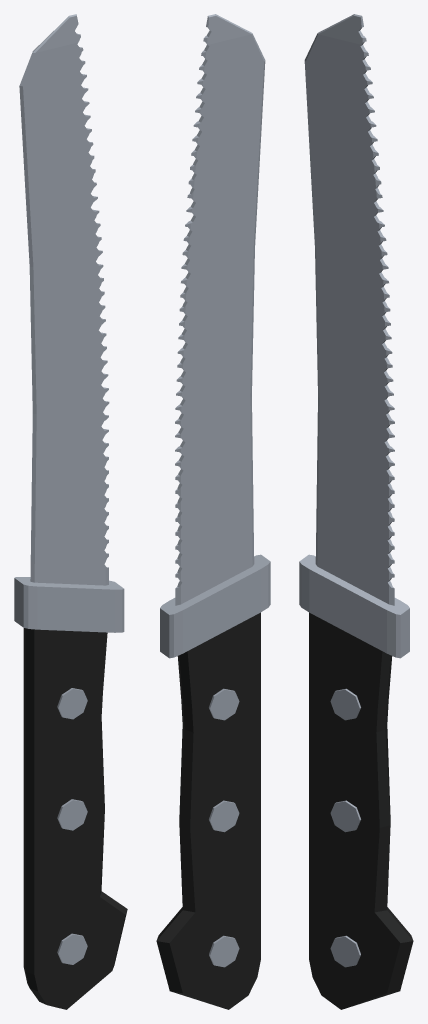
The model's file is Bread Knife.glb.
The picture shows the model from 3 angles, left to right: view 1: azimuth 30°, elevation 25°; view 2: azimuth 210°, elevation 25°; view 3: azimuth 330°, elevation 25°; orthographic projection.
Visible parts, largest first — view 1: knife_bread_knife_Cube.004; view 2: knife_bread_knife_Cube.004; view 3: knife_bread_knife_Cube.004.
Boxes of the visible parts, left/top/right/bottom form: knife_bread_knife_Cube.004: left=14, top=14, right=127, bottom=1009; knife_bread_knife_Cube.004: left=156, top=14, right=270, bottom=1009; knife_bread_knife_Cube.004: left=299, top=14, right=413, bottom=1009.
Size of the model in its own units: 0.8353 by 7.25 by 0.1787.
1 material, 1 textured.
